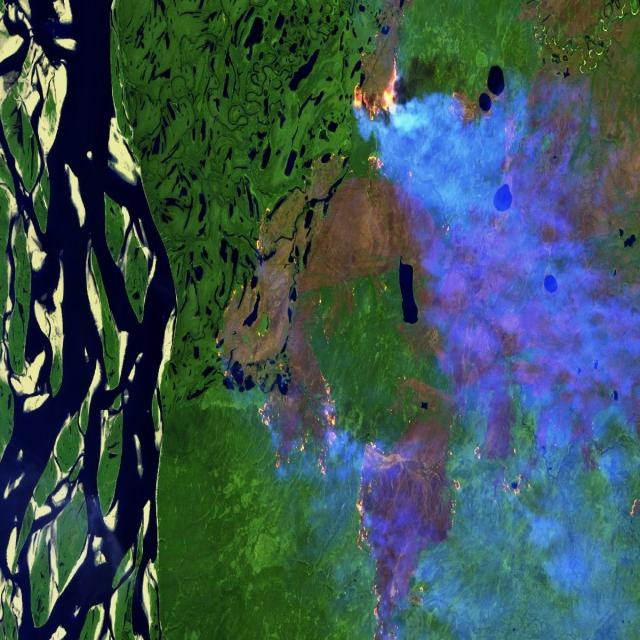fire: (345, 42, 519, 186), (348, 431, 463, 640), (253, 360, 338, 479), (472, 425, 546, 508)
